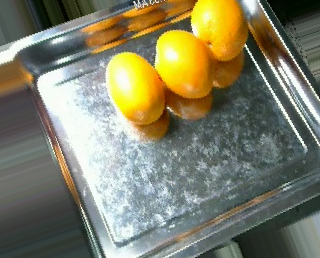Orange: (105, 50, 165, 123), (153, 28, 214, 99), (190, 1, 247, 60)
